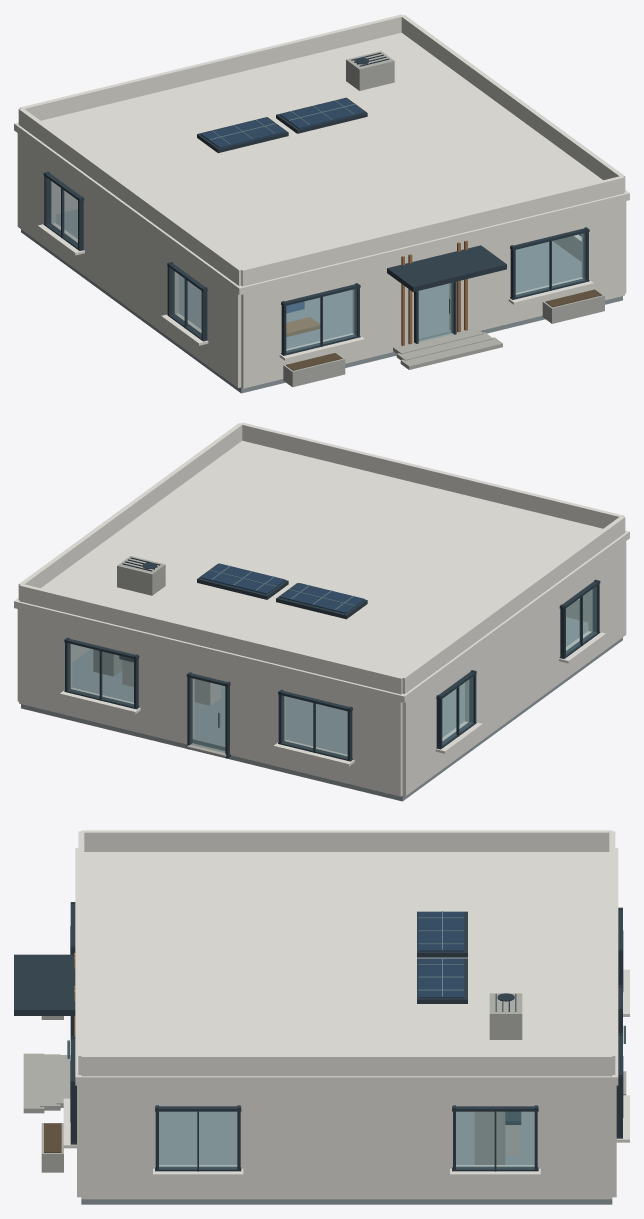
File: House_2.fbx
3 views of the same model, one above another, from view 1: azimuth 30°, elevation 25°; view 2: azimuth 150°, elevation 25°; view 3: azimuth 270°, elevation 25° (orthographic). The views are drawn at different scales.
Parts seen in each view (by area): view 1: House_2; view 2: House_2; view 3: House_2.
Boxes of the visible parts, <box> form: House_2: <box>14,14,629,393</box>; House_2: <box>14,422,629,801</box>; House_2: <box>14,830,629,1204</box>.
Bounding box in the file's own units: 13.87 × 4.27 × 15.09.
